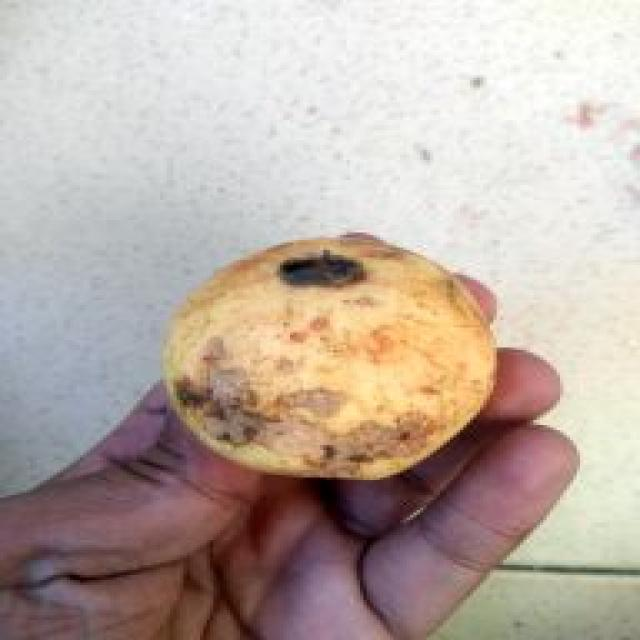Bad_Guava: (163, 235, 495, 479)
